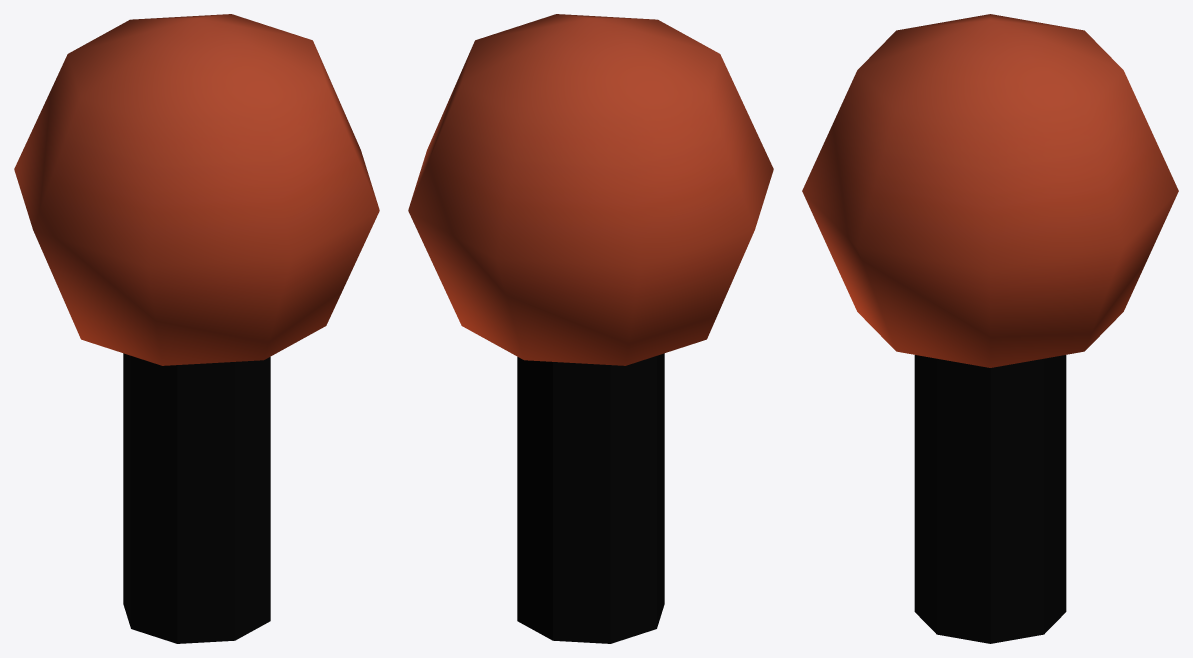
Rendered from LampPole_Short_Red.fbx.
3 views of the same model, side by side, from view 1: azimuth 30°, elevation 25°; view 2: azimuth 150°, elevation 25°; view 3: azimuth 270°, elevation 25° (orthographic).
Parts seen in each view (by area): view 1: LampPole_Short_Red; view 2: LampPole_Short_Red; view 3: LampPole_Short_Red.
Part boxes in pixels (box(x1,y1,x2,y2)): LampPole_Short_Red: box(14, 14, 379, 643); LampPole_Short_Red: box(408, 14, 773, 643); LampPole_Short_Red: box(802, 14, 1178, 643).
Bounding box in the file's own units: 31.58 × 54.72 × 31.58.
